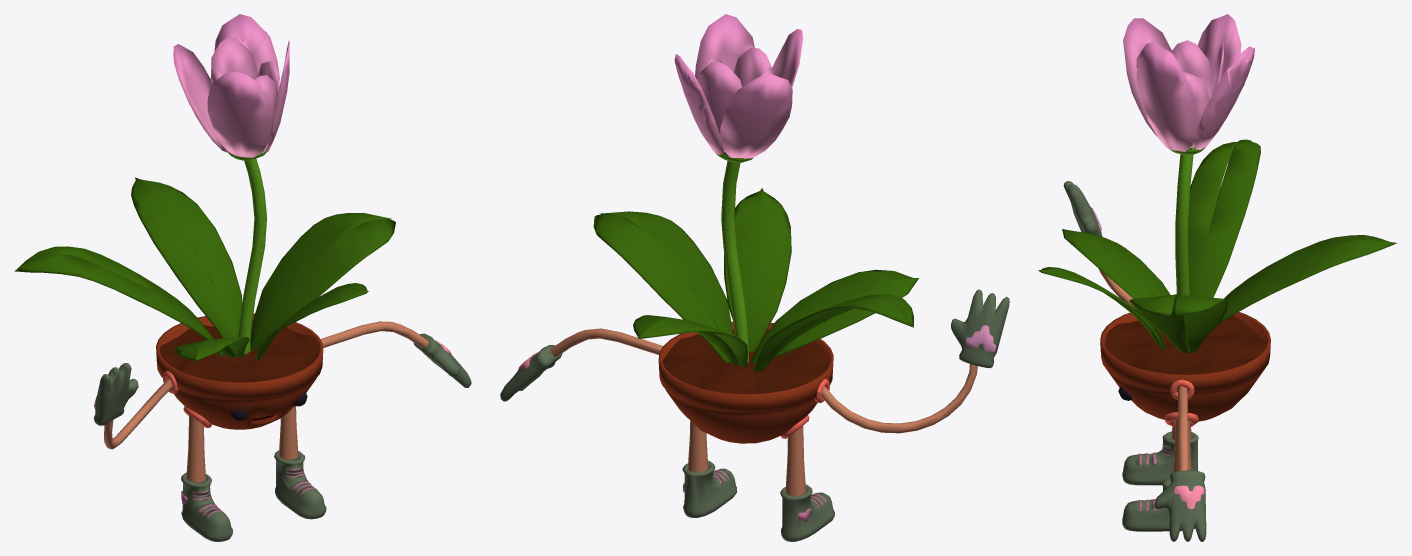
Rendered from plant-pot-tulip-ffb406.glb.
3 renders of one model, left to right at view 1: azimuth 30°, elevation 25°; view 2: azimuth 150°, elevation 25°; view 3: azimuth 270°, elevation 25°, orthographic. The views are drawn at different scales.
Parts seen in each view (by area): view 1: PropMesh; view 2: PropMesh; view 3: PropMesh.
Part boxes in pixels (left/top/right/bottom): PropMesh: left=14, top=14, right=471, bottom=541; PropMesh: left=500, top=14, right=1009, bottom=541; PropMesh: left=1038, top=14, right=1396, bottom=541.
Size of the model in its own units: 0.5353 by 0.5693 by 0.3883.
6 materials, 1 textured.
